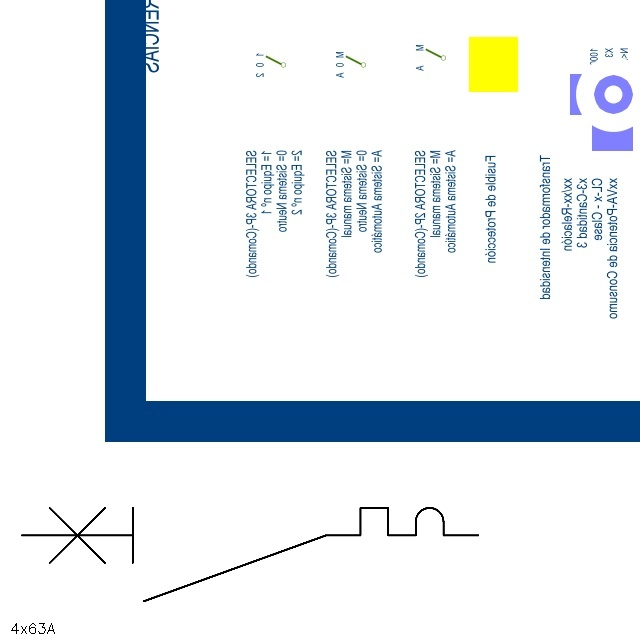interruptor_termomagnetico: (10, 496, 490, 613)
